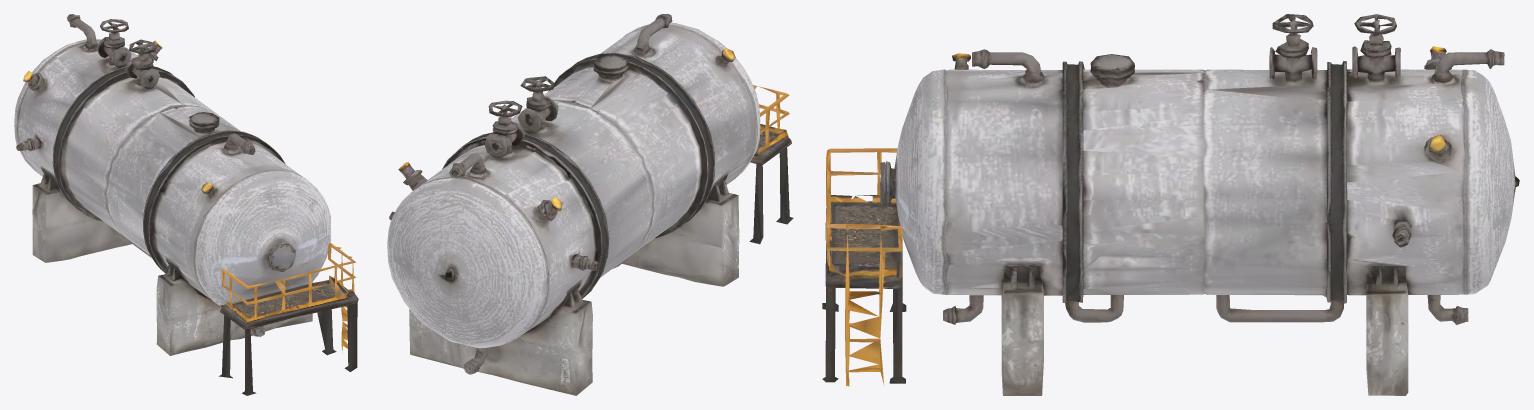
Rendered from htankSkid.glb.
The picture shows the model from 3 angles, left to right: view 1: azimuth 30°, elevation 25°; view 2: azimuth 150°, elevation 25°; view 3: azimuth 270°, elevation 25°; orthographic projection. The views are drawn at different scales.
Parts seen in each view (by area): view 1: htankSkid; view 2: htankSkid; view 3: htankSkid.
Boxes of the visible parts, left/top/right/bottom form: htankSkid: left=14, top=14, right=358, bottom=395; htankSkid: left=387, top=14, right=793, bottom=395; htankSkid: left=822, top=14, right=1519, bottom=395.
Size of the model in its own units: 5.51 by 6.68 by 13.
Materials: 1 (1 with a texture image).
